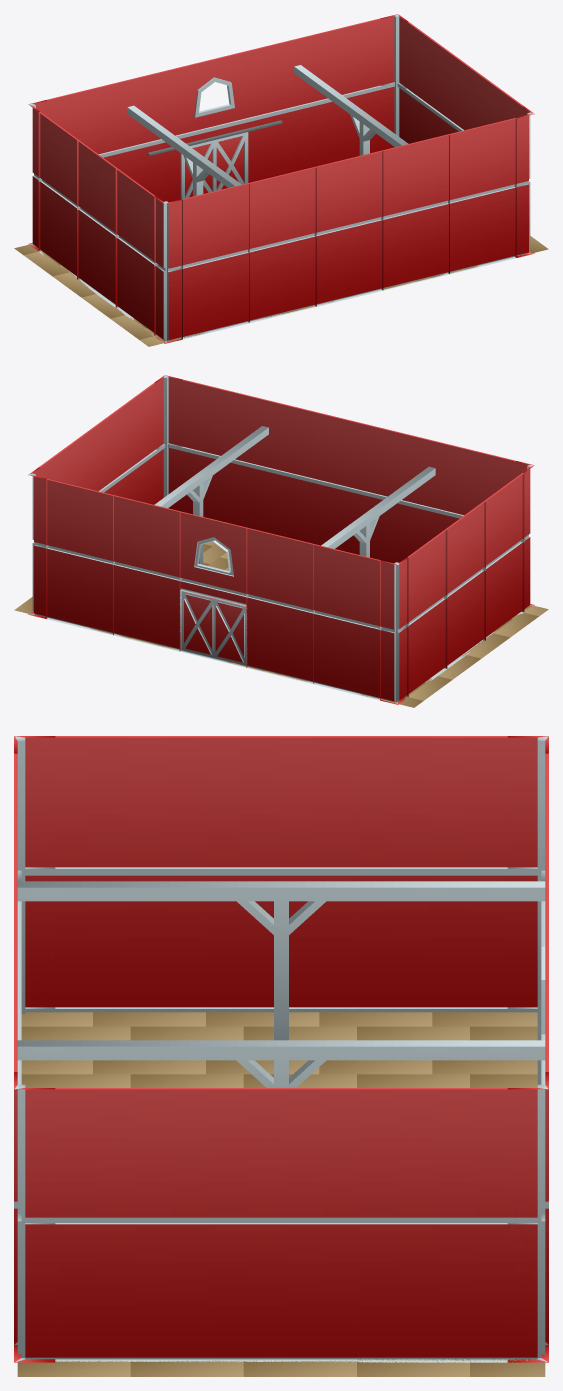
The model's file is Barn.fbx.
3 renders of one model, top to bottom at view 1: azimuth 30°, elevation 25°; view 2: azimuth 150°, elevation 25°; view 3: azimuth 270°, elevation 25°, orthographic. The views are drawn at different scales.
Visible parts, largest first — view 1: Wall010, Wall008, Wall011, Wall012, Wall009, Wall003, Wall004, Wall002, Wall014, Wall013, Wall015, Window (+12 smaller); view 2: Wall003, Wall002, Wall001, Wall004, Wall009, Wall010, Wall008, Wall011, Wall015, Wall013, Wall014, Window (+13 smaller); view 3: Wall005, Wall006, Wall007, Wall013, Wall014, Wall015, Floor001, Support001, Floor002, Support002, Corner001, Corner002 (+5 smaller).
Boxes of the visible parts, x1=… form: Wall010: x1=314, y1=150, x2=383, y2=306; Wall008: x1=448, y1=118, x2=516, y2=274; Wall011: x1=248, y1=166, x2=316, y2=322; Wall012: x1=182, y1=183, x2=249, y2=339; Wall009: x1=382, y1=134, x2=449, y2=290; Wall003: x1=247, y1=35, x2=314, y2=182; Wall004: x1=313, y1=18, x2=381, y2=166; Wall002: x1=113, y1=67, x2=181, y2=202; Wall014: x1=115, y1=168, x2=157, y2=336; Wall013: x1=38, y1=111, x2=80, y2=279; Wall015: x1=77, y1=140, x2=116, y2=307; Window: x1=147, y1=51, x2=282, y2=155; Wall003: x1=113, y1=495, x2=181, y2=651; Wall002: x1=246, y1=527, x2=314, y2=683; Wall001: x1=313, y1=544, x2=380, y2=700; Wall004: x1=46, y1=479, x2=114, y2=635; Wall009: x1=248, y1=396, x2=315, y2=544; Wall010: x1=314, y1=412, x2=382, y2=560; Wall008: x1=181, y1=379, x2=249, y2=527; Wall011: x1=381, y1=428, x2=449, y2=563; Wall015: x1=444, y1=501, x2=485, y2=668; Wall013: x1=407, y1=529, x2=447, y2=693; Wall014: x1=484, y1=472, x2=523, y2=637; Window: x1=180, y1=511, x2=248, y2=606; Wall005: x1=357, y1=1088, x2=507, y2=1362; Wall006: x1=206, y1=1088, x2=356, y2=1362; Wall007: x1=55, y1=1088, x2=205, y2=1362; Wall013: x1=357, y1=736, x2=507, y2=1012; Wall014: x1=55, y1=736, x2=205, y2=1012; Wall015: x1=206, y1=736, x2=356, y2=1012; Floor001: x1=21, y1=1012, x2=537, y2=1040; Support001: x1=17, y1=881, x2=545, y2=1040; Floor002: x1=21, y1=1060, x2=537, y2=1087; Support002: x1=17, y1=1040, x2=545, y2=1087; Corner001: x1=507, y1=1072, x2=548, y2=1362; Corner002: x1=14, y1=1072, x2=55, y2=1362.
Bounding box in the file's own units: 240 × 80 × 142.
